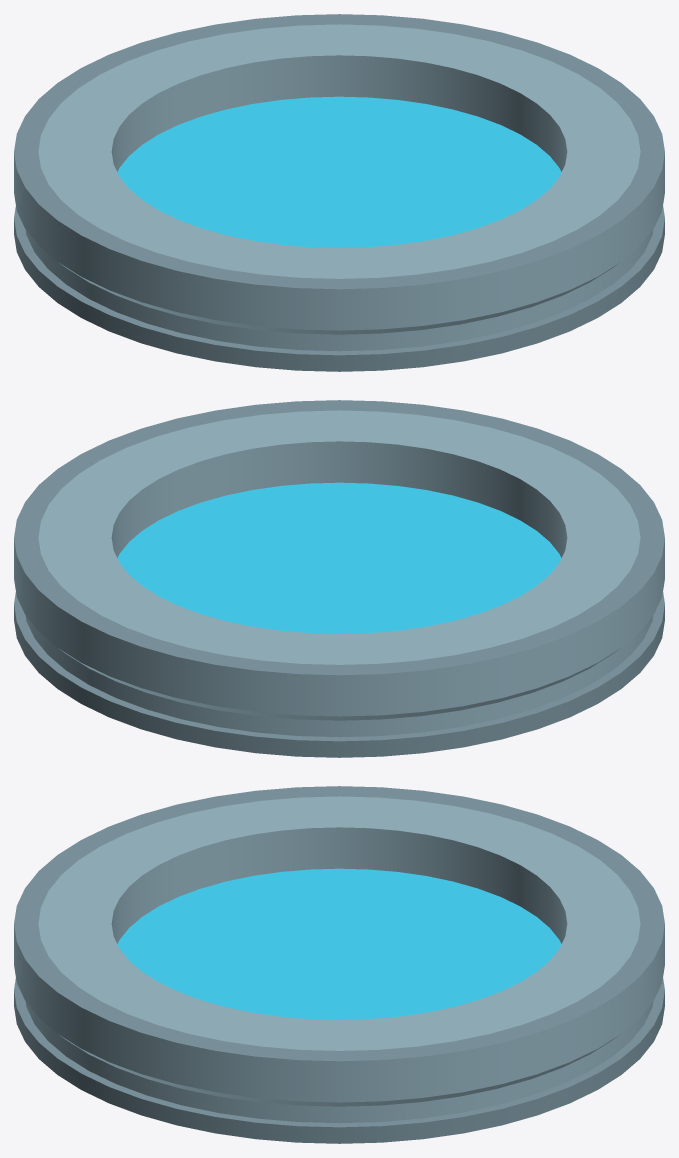
Rendered from fountainRound.dae.
3 renders of one model, top to bottom at view 1: azimuth 30°, elevation 25°; view 2: azimuth 150°, elevation 25°; view 3: azimuth 270°, elevation 25°, orthographic.
Visible parts, largest first — view 1: fountainRound; view 2: fountainRound; view 3: fountainRound.
Part boxes in pixels (x1=…): fountainRound: x1=14, y1=14, x2=664, y2=371; fountainRound: x1=14, y1=400, x2=664, y2=757; fountainRound: x1=14, y1=786, x2=664, y2=1143.
Bounding box in the file's own units: 2 × 0.28 × 2.
